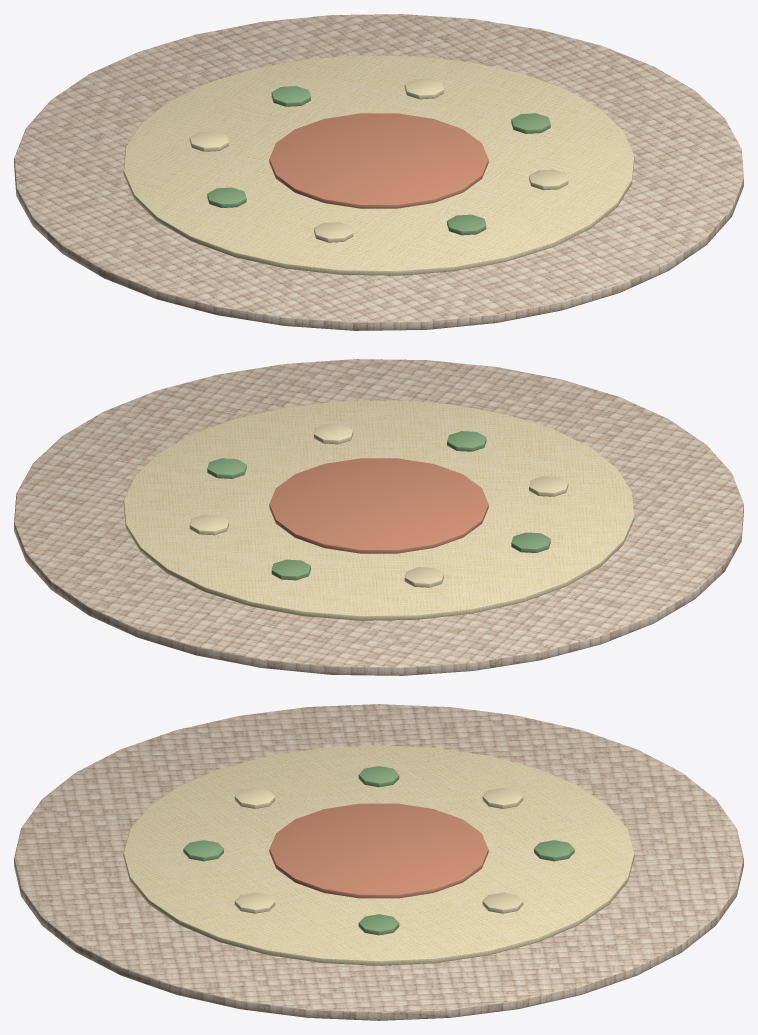
The model's file is round-rug.glb.
3 views of the same model, one above another, from view 1: azimuth 30°, elevation 25°; view 2: azimuth 150°, elevation 25°; view 3: azimuth 270°, elevation 25° (orthographic).
Parts seen in each view (by area): view 1: round-rug; view 2: round-rug; view 3: round-rug.
Boxes of the visible parts, x1,y1,x2,y2 form: round-rug: (14,14,743,330); round-rug: (14,359,743,675); round-rug: (14,704,743,1020).
Bounding box in the file's own units: 1.8 × 0.0505 × 1.8.
Materials: 5 (3 with a texture image).
